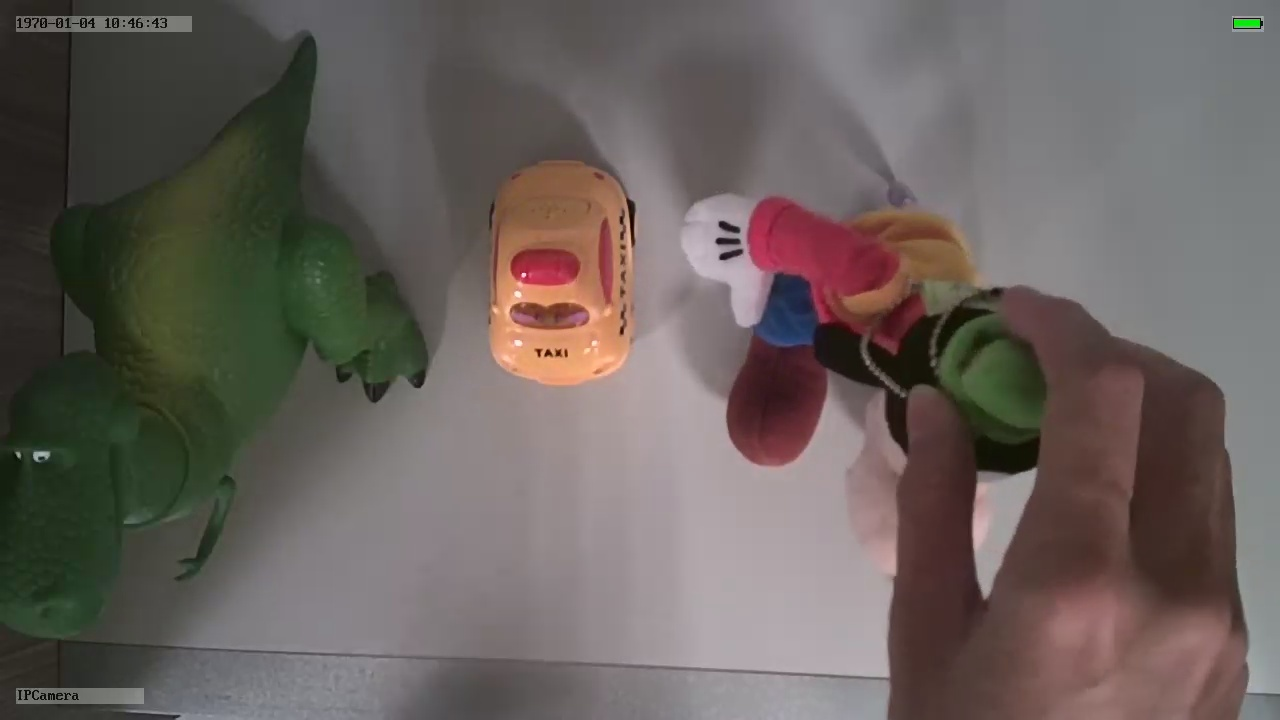car: (480, 149, 645, 392)
rex: (2, 110, 427, 644)
